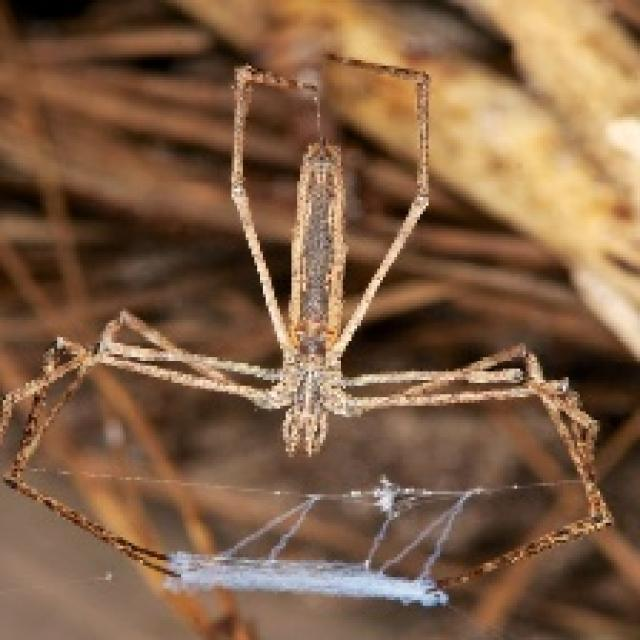Non venomous spider: (157, 72, 498, 474)
